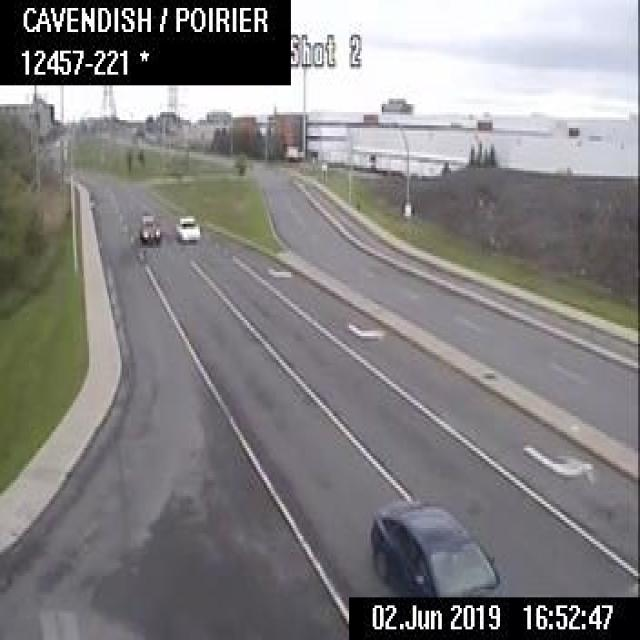vehicle: (368, 496, 506, 595), (173, 213, 202, 243), (136, 210, 160, 242)
